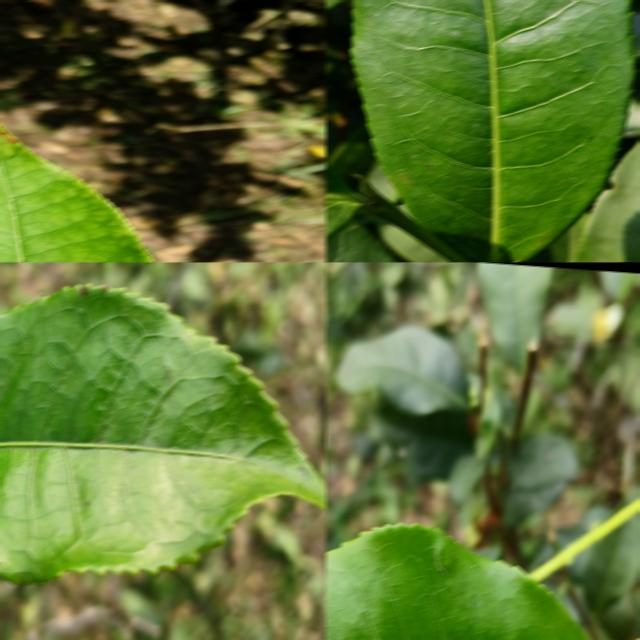Leaf: (0, 283, 326, 582), (351, 0, 634, 262), (326, 524, 588, 640), (0, 124, 153, 262), (336, 325, 468, 414), (476, 262, 552, 371), (377, 405, 473, 478), (582, 513, 640, 615), (509, 433, 578, 487)
